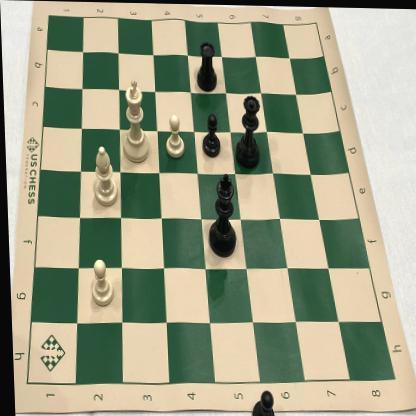black-king: (204, 168, 236, 260)
black-pawn: (199, 113, 222, 158)
black-queen: (231, 88, 261, 169)
black-rook: (192, 37, 218, 95)
white-bishop: (88, 144, 118, 208)
white-king: (117, 77, 150, 165)
white-pawn: (85, 257, 114, 310), (162, 112, 185, 159)
